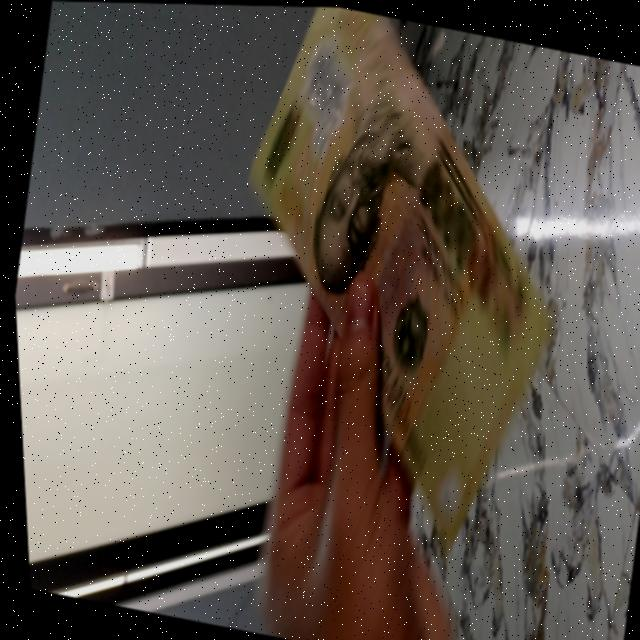100 000 VND: (168, 3, 608, 574)
